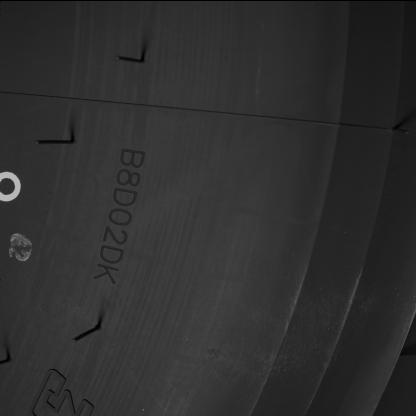ocr: (92, 147, 146, 283)
